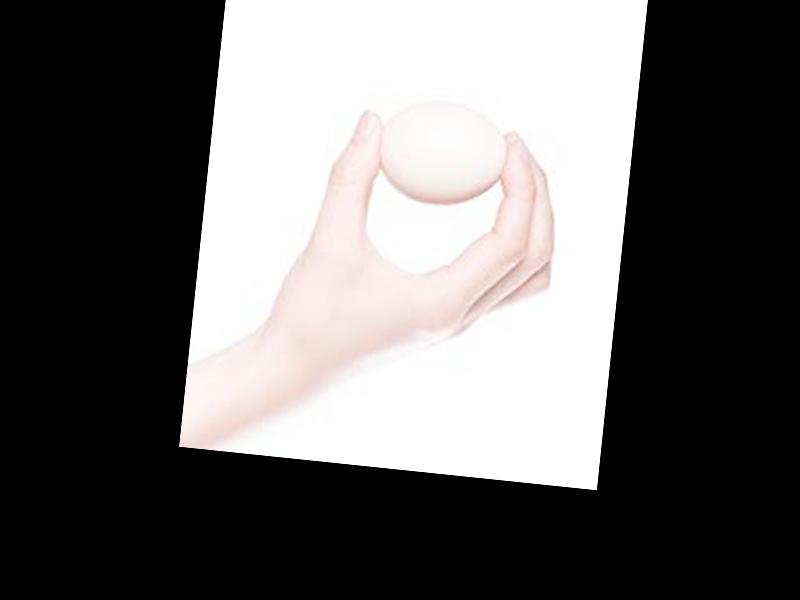Eggs: (373, 95, 512, 211)
